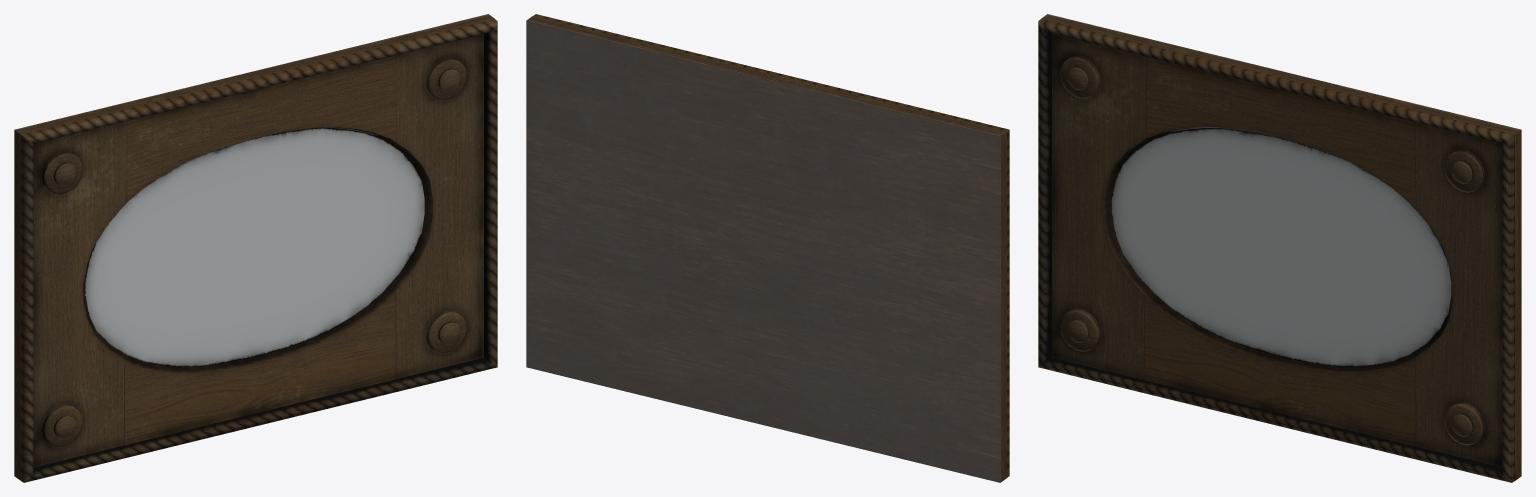
File: mirror.FBX
3 views of the same model, side by side, from view 1: azimuth 30°, elevation 25°; view 2: azimuth 150°, elevation 25°; view 3: azimuth 330°, elevation 25° (orthographic).
Visible parts, largest first — view 1: mirror; view 2: mirror; view 3: mirror.
Boxes of the visible parts, x1,y1,x2,y2 form: mirror: (14, 14, 497, 482); mirror: (526, 14, 1009, 482); mirror: (1038, 14, 1521, 482).
Size of the model in its own units: 0.6114 by 0.4269 by 0.0254.
1 material, 1 textured.
